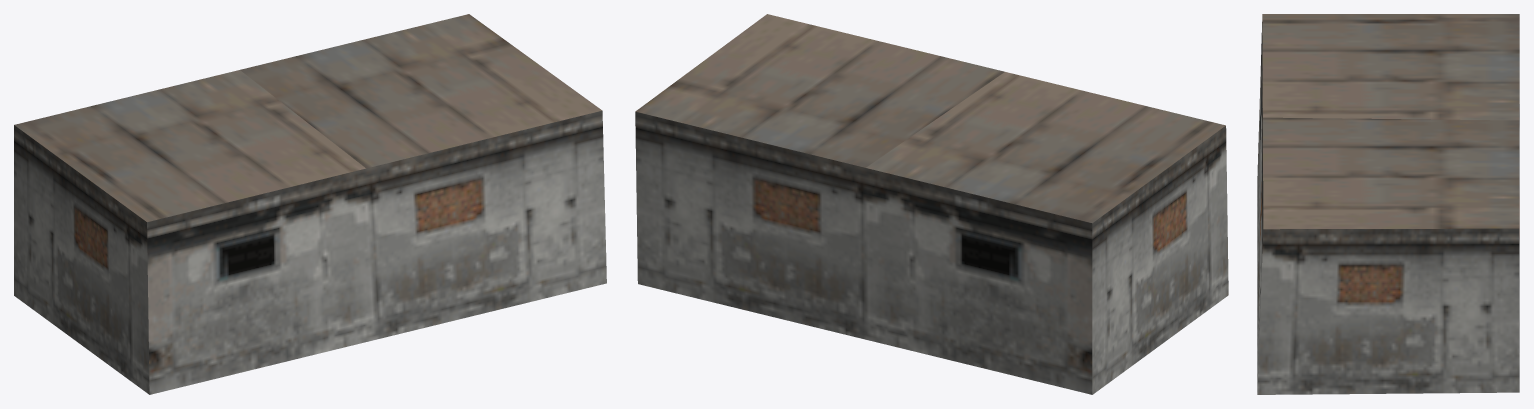
The model's file is barrack02.glb.
3 renders of one model, left to right at view 1: azimuth 30°, elevation 25°; view 2: azimuth 150°, elevation 25°; view 3: azimuth 270°, elevation 25°, orthographic. The views are drawn at different scales.
Visible parts, largest first — view 1: barrack02_elements_0; view 2: barrack02_elements_0; view 3: barrack02_elements_0.
Boxes of the visible parts, box(x1,y1,x2,y2) form: barrack02_elements_0: box(14, 14, 606, 394); barrack02_elements_0: box(635, 14, 1228, 394); barrack02_elements_0: box(1257, 14, 1519, 394).
Size of the model in its own units: 9.51 by 3.39 by 4.88.
Materials: 1 (1 with a texture image).
